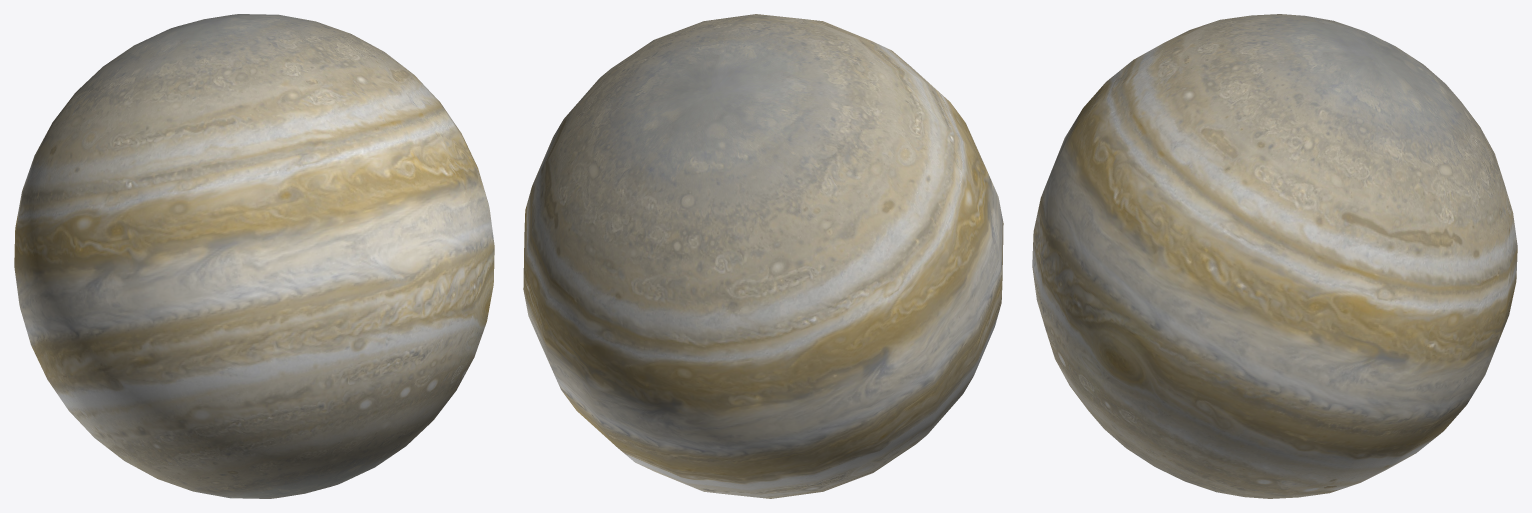
File: Jupiter.fbx
The picture shows the model from 3 angles, left to right: view 1: azimuth 30°, elevation 25°; view 2: azimuth 150°, elevation 25°; view 3: azimuth 270°, elevation 25°; orthographic projection.
Visible parts, largest first — view 1: pSphere6; view 2: pSphere6; view 3: pSphere6.
Part boxes in pixels (bbox=[...]): pSphere6: bbox=[14, 14, 494, 498]; pSphere6: bbox=[523, 14, 1003, 498]; pSphere6: bbox=[1032, 14, 1517, 498].
Bounding box in the file's own units: 7.63 × 7.63 × 7.63.
Materials: 1 (1 with a texture image).
